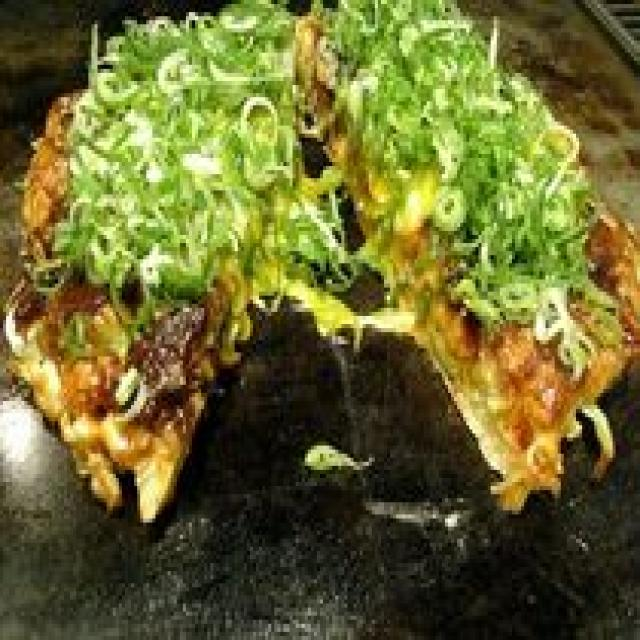蛋糕甜品: (0, 0, 640, 523)
